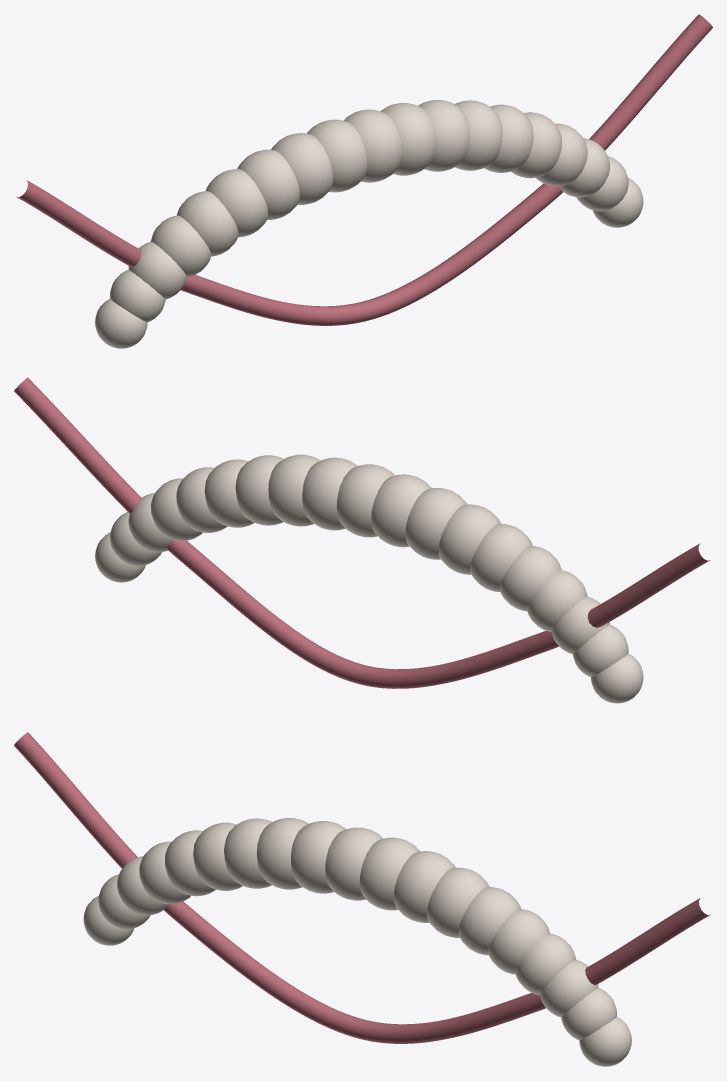
Rendered from pearl-opera-grand-set.glb.
3 views of the same model, one above another, from view 1: azimuth 30°, elevation 25°; view 2: azimuth 150°, elevation 25°; view 3: azimuth 330°, elevation 25° (orthographic).
Parts seen in each view (by area): view 1: pearl (×19), chain; view 2: pearl (×19), chain; view 3: pearl (×19), chain.
Part boxes in pixels (left/top/right/bottom): pearl (×19): left=95, top=100, right=643, bottom=348; chain: left=16, top=14, right=712, bottom=325; pearl (×19): left=95, top=454, right=643, bottom=703; chain: left=14, top=377, right=710, bottom=688; pearl (×19): left=83, top=818, right=631, bottom=1066; chain: left=14, top=732, right=710, bottom=1043.
Bounding box in the file's own units: 2.74 × 0.8409 × 0.25.
